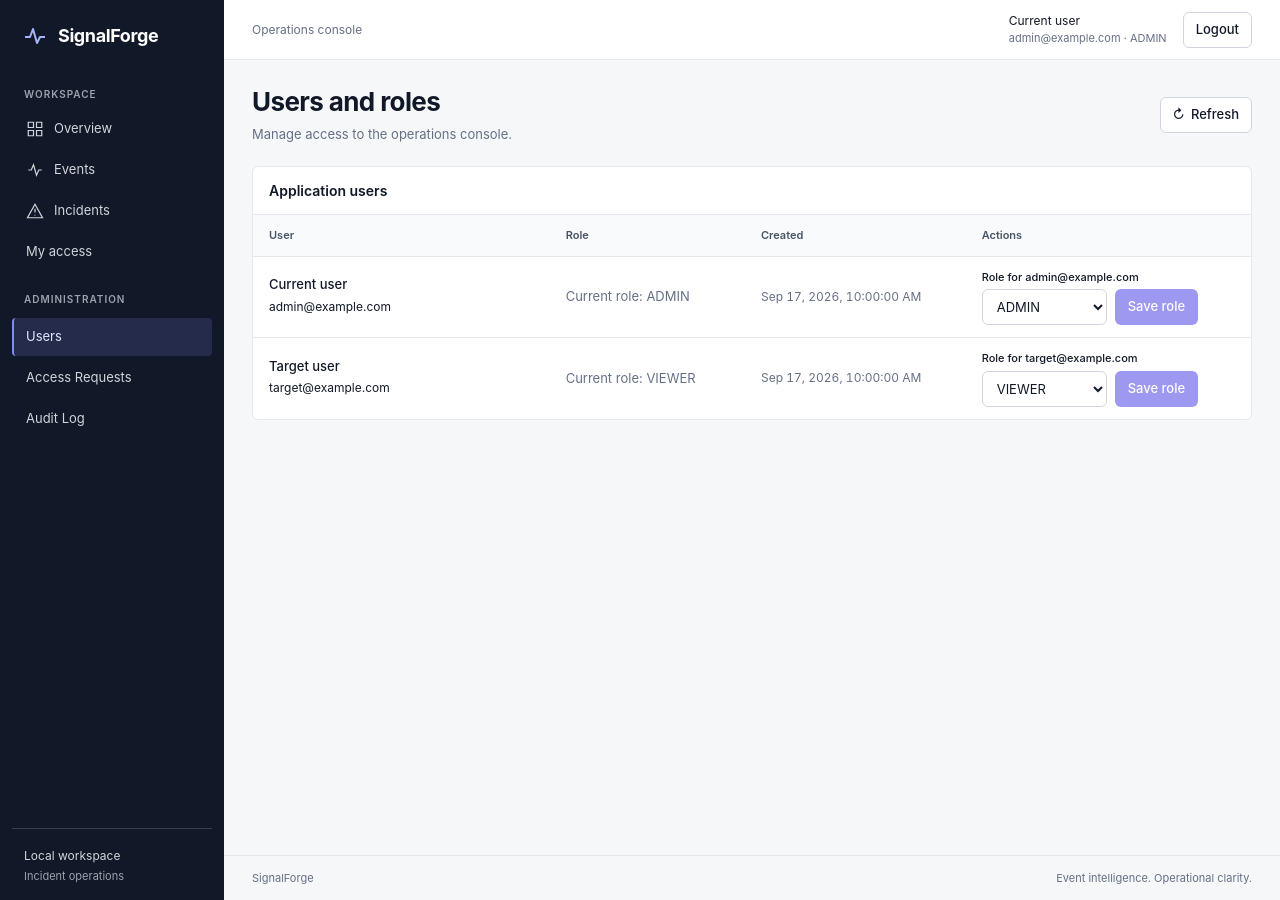
Scenario: changes a role using server data and credentialed CSRF-protected PATCH
The width and height of the screenshot is (1280, 900).
Select "OPERATOR" in the dropdown labelled "Role for target@example.com". click: (1044, 388)
box: [982,370,1107,406]
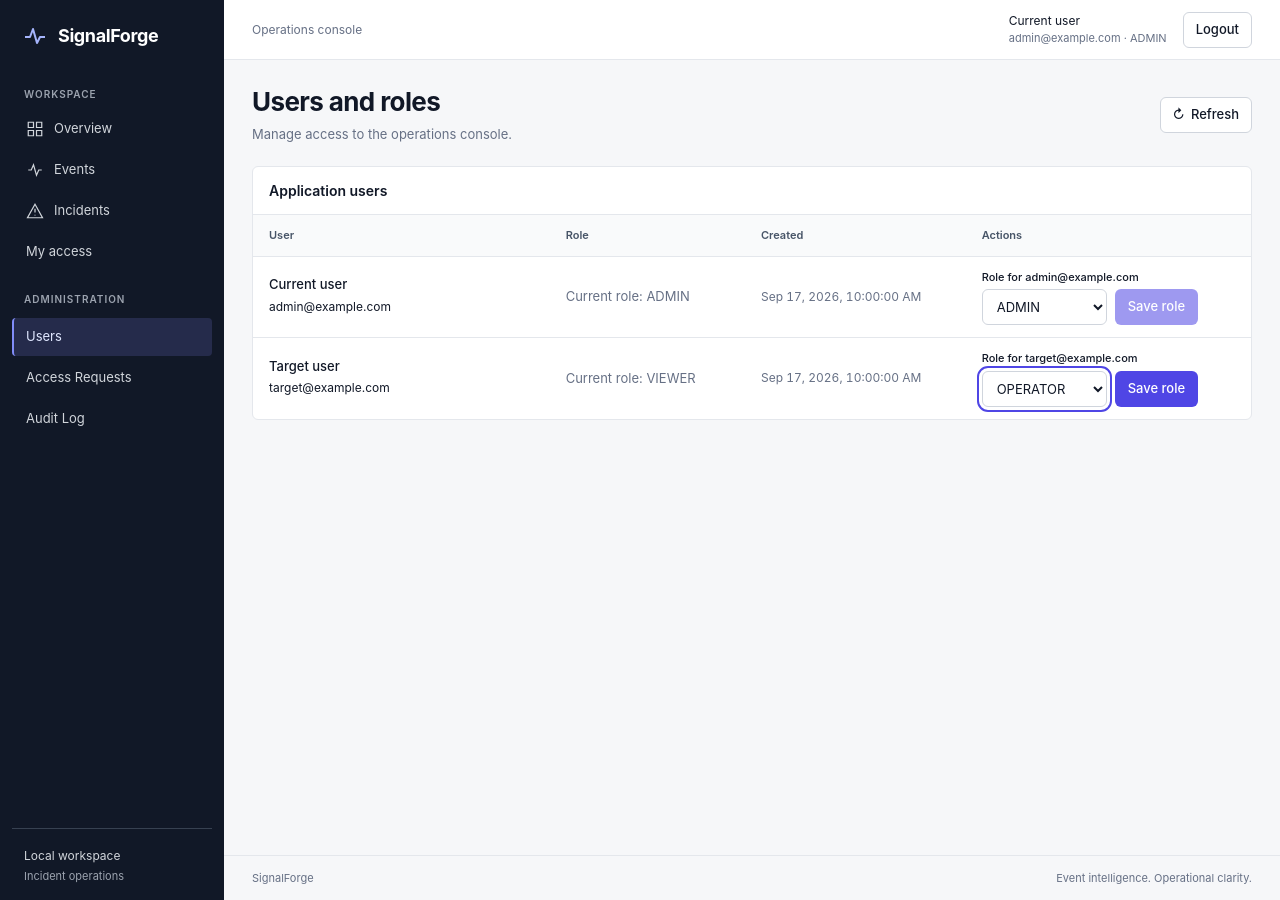
Click the button "Save role" in the row of "VIEWER". click: (1156, 388)
box: [1115,370,1198,406]
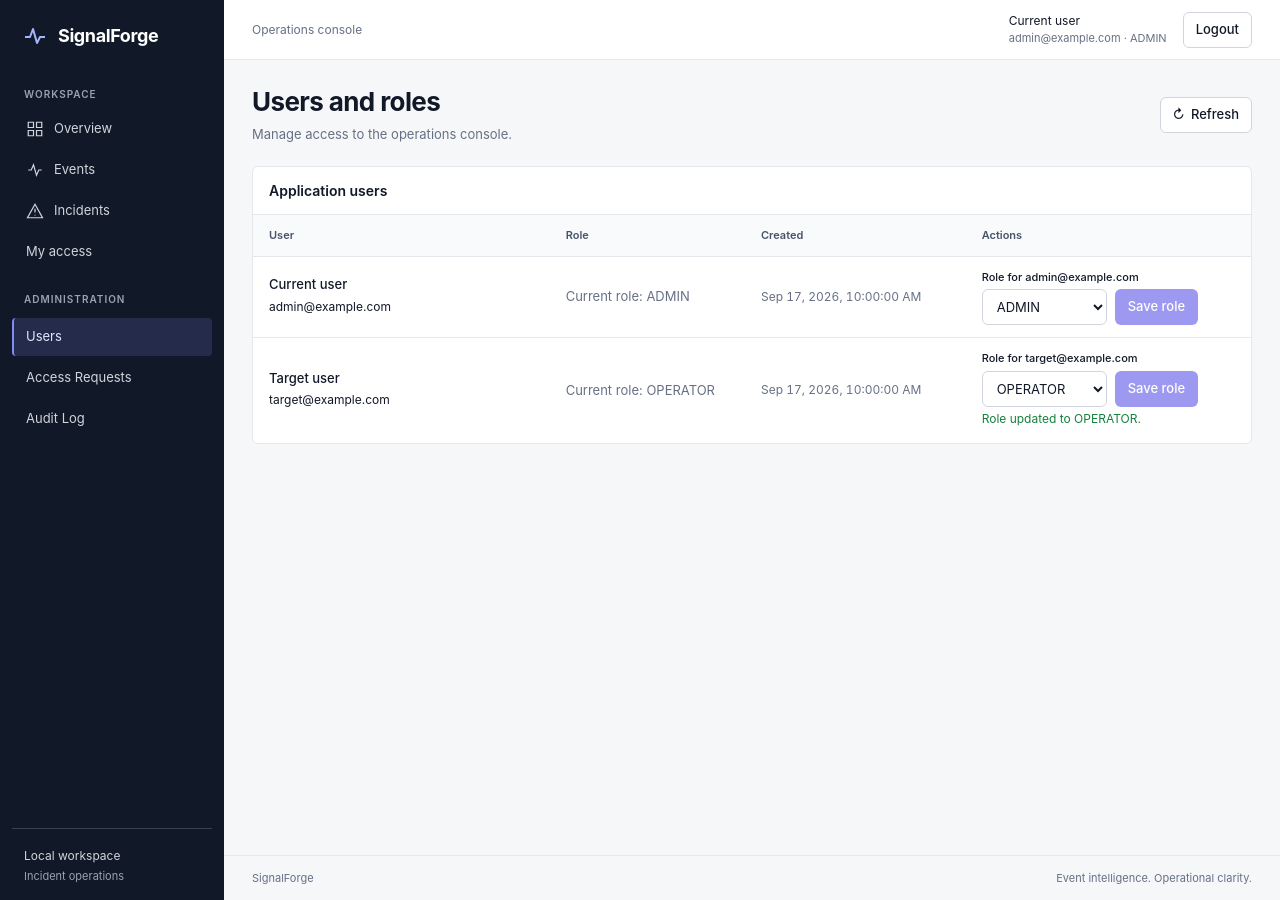
Check: the message shows "Role updated to OPERATOR", box [982,410,1141,426]
Check: the element "target@example.com" shows "Current role: OPERATOR", box [253,338,1251,442]
